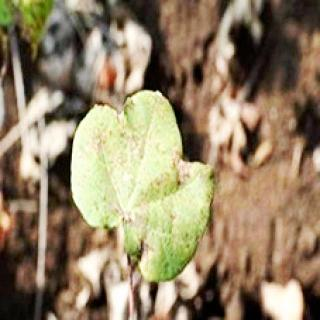leaf spot: (70, 93, 212, 283)
